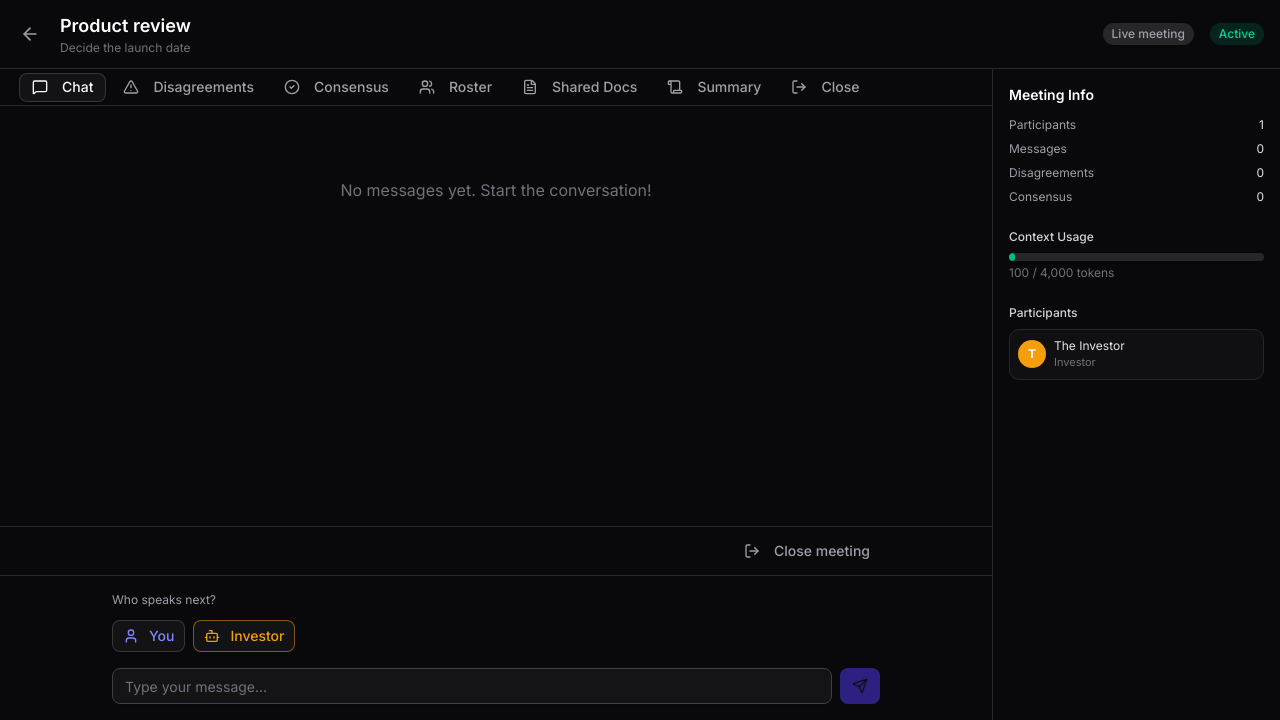
Test: MeetingRoom closing workflow › keeps the close entry in the main tab bar with stable control anchors
Press the mouse on the tab "Close" at (825,87), box top-left (778, 72), bottom-right (872, 102)
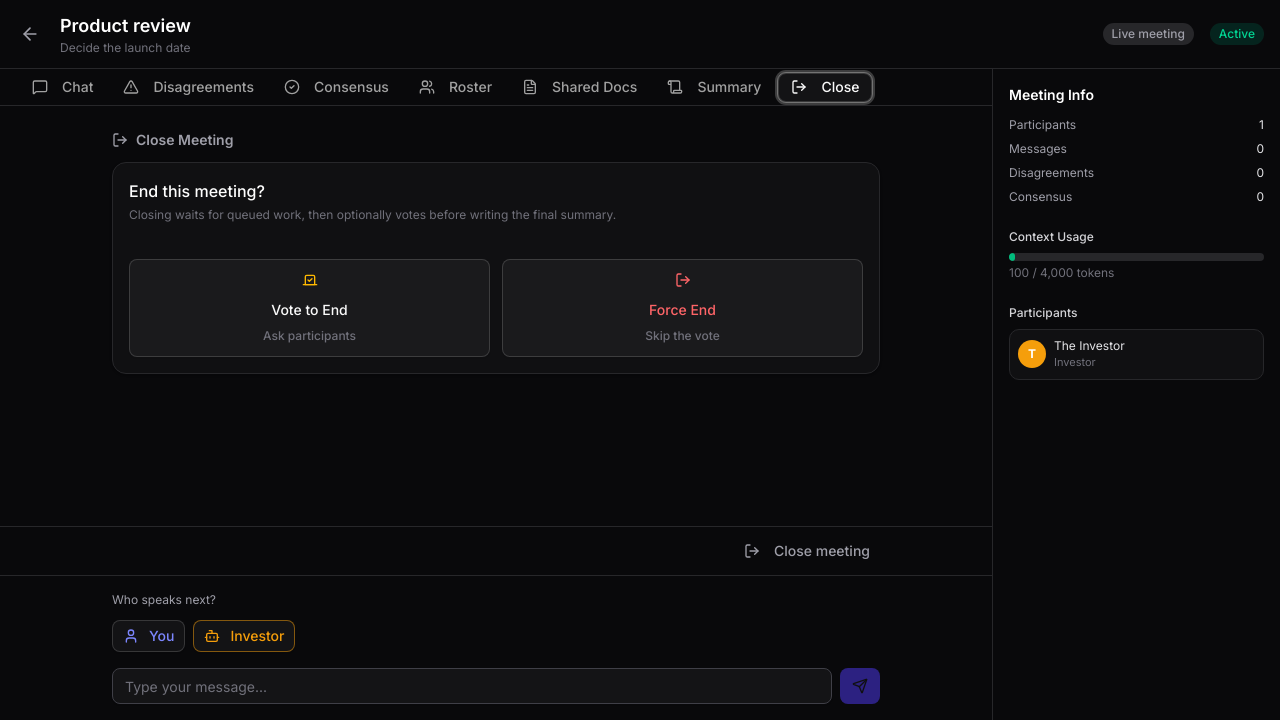
Expected: the element with id "closing-panel" is shown, top-left (112, 130), bottom-right (880, 374)
Expected: the heading "Close Meeting" is shown, top-left (112, 131), bottom-right (233, 148)
Expected: the button with id "closing-start-vote" is shown, top-left (129, 259), bottom-right (490, 357)
